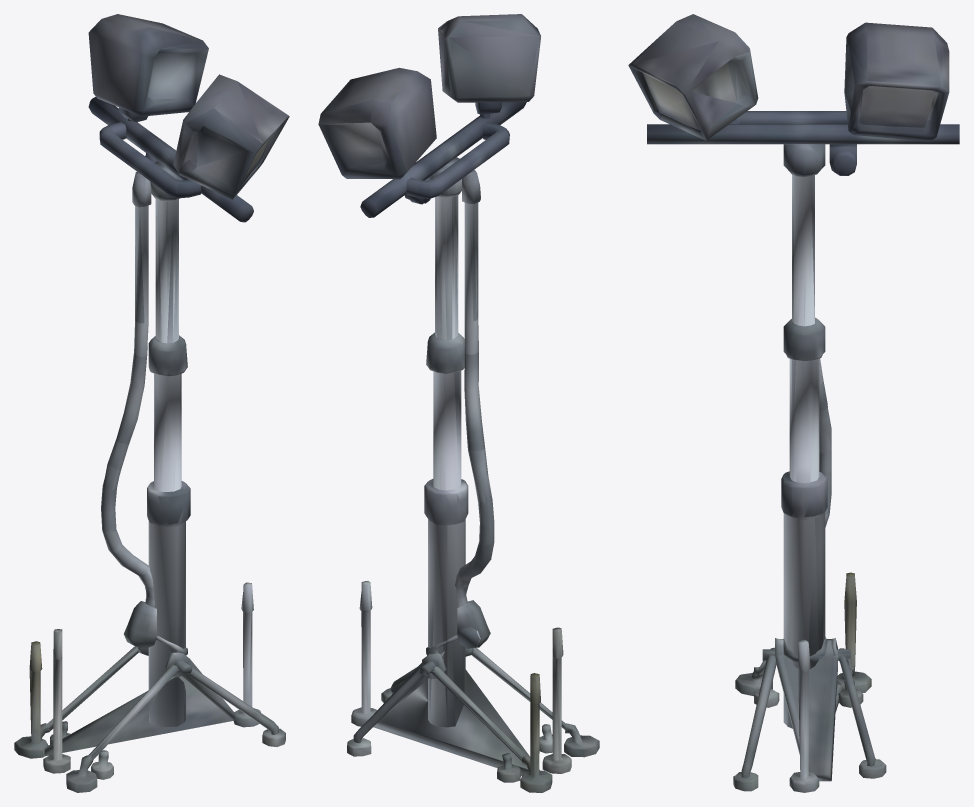
File: 整備庫_13_照明塔A.glb
3 views of the same model, side by side, from view 1: azimuth 30°, elevation 25°; view 2: azimuth 150°, elevation 25°; view 3: azimuth 270°, elevation 25° (orthographic). The views are drawn at different scales.
Parts seen in each view (by area): view 1: 13_照明塔A; view 2: 13_照明塔A; view 3: 13_照明塔A.
Part boxes in pixels (x1,y1,x2,y2): 13_照明塔A: (14,14,289,792); 13_照明塔A: (318,14,599,792); 13_照明塔A: (628,14,959,792).
Size of the model in its own units: 0.062 by 0.1855 by 0.0771.
Materials: 1 (1 with a texture image).
